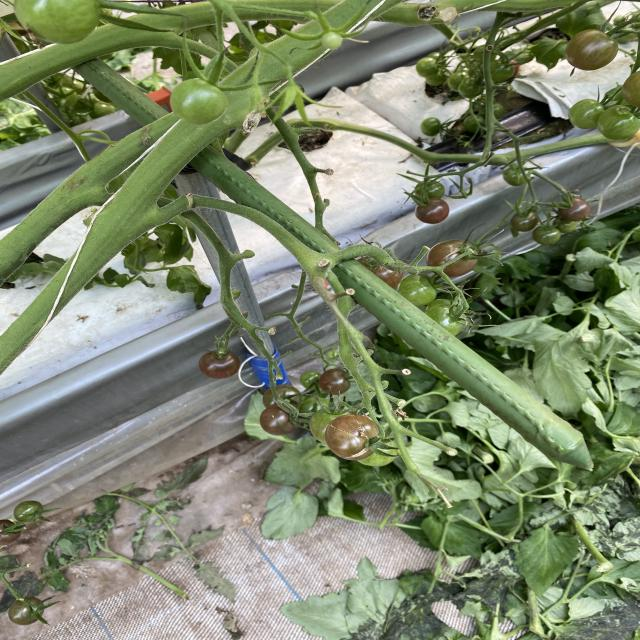yesil: (413, 198, 495, 273)
